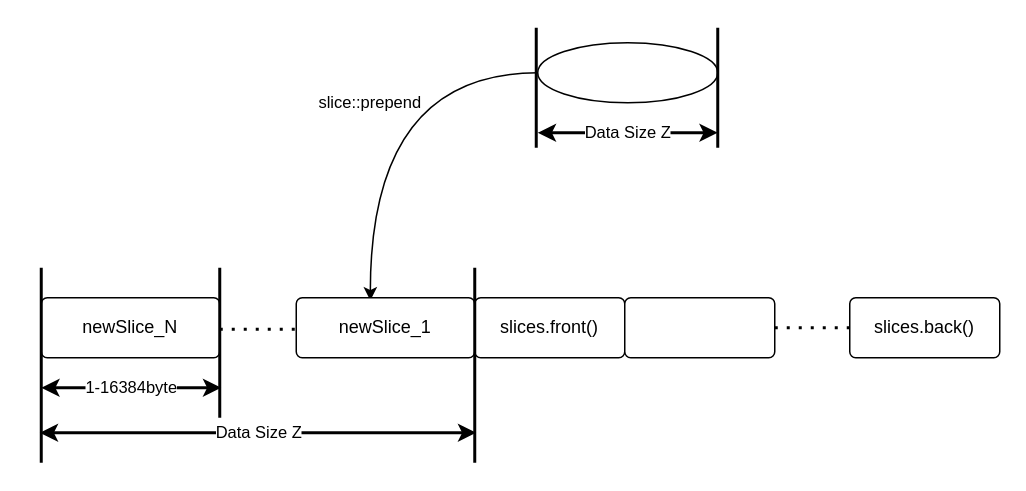
The diagram is 1026 pixels wide and 491 high, and some of its shapes have lost their labels. Here are the shapes that lost their labels. From the top down, the centre of each, then its label:
the point at 627,72: data_to_add
the point at 699,327: slice
